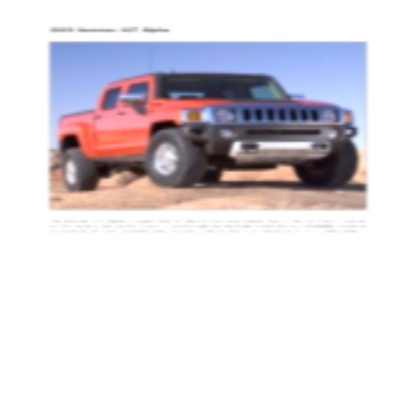Vehicle: (57, 70, 360, 194)
